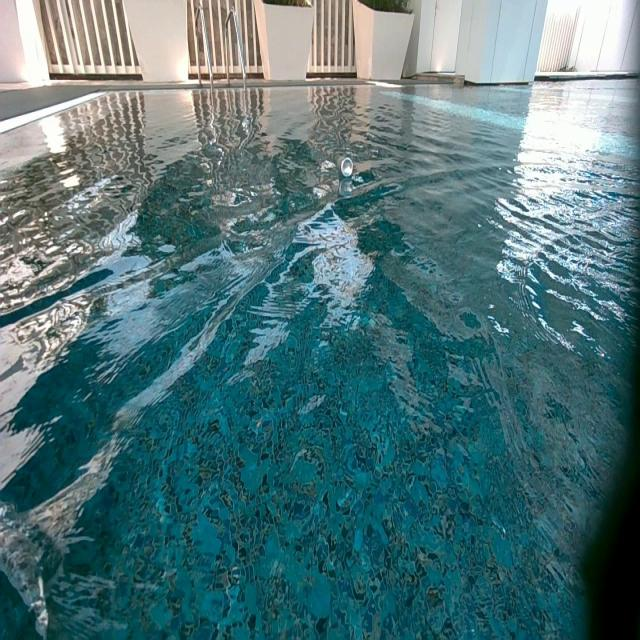Cans: (342, 158, 354, 175)
